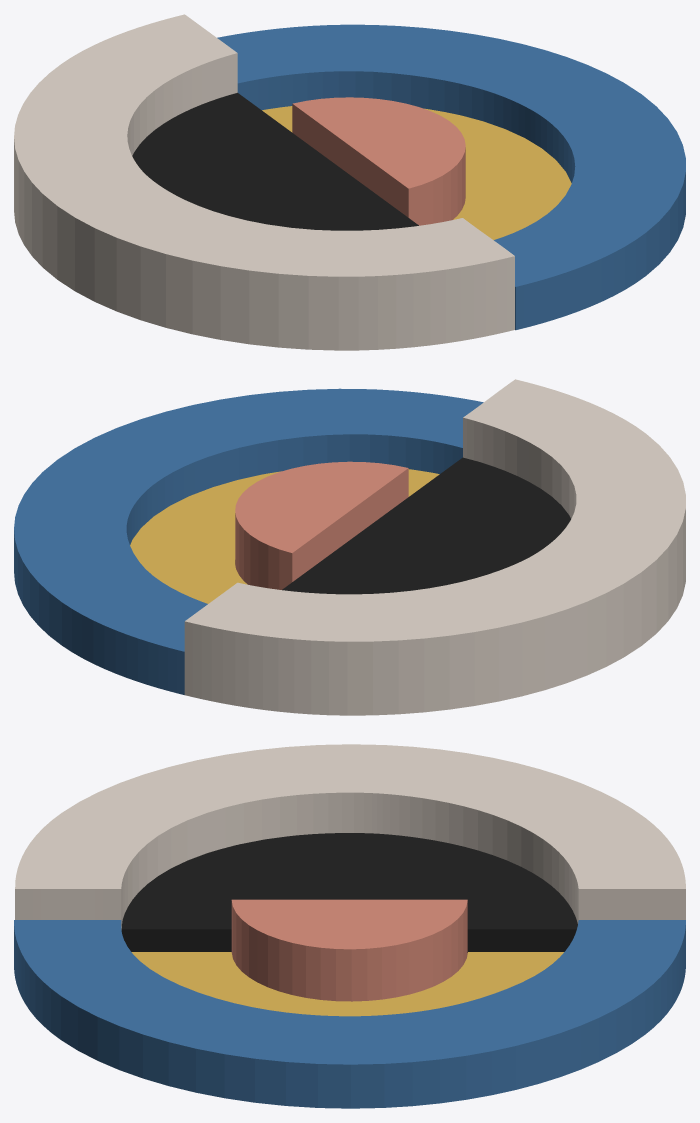
Rendered from SWAN17-HILDA.glb.
The picture shows the model from 3 angles, top to bottom: view 1: azimuth 30°, elevation 25°; view 2: azimuth 150°, elevation 25°; view 3: azimuth 270°, elevation 25°; orthographic projection.
Parts seen in each view (by area): view 1: Curve, Curve.002, Curve.001, Curve.004, Curve.003; view 2: Curve, Curve.002, Curve.001, Curve.004, Curve.003; view 3: Curve.002, Curve, Curve.001, Curve.004, Curve.003.
Part boxes in pixels (x1,y1,x2,y2): Curve: (14,14,514,350); Curve.002: (217,24,685,330); Curve.001: (132,92,418,230); Curve.004: (292,97,465,225); Curve.003: (262,106,571,239); Curve: (184,379,685,715); Curve.002: (14,388,483,694); Curve.001: (282,457,570,594); Curve.004: (235,461,408,589); Curve.003: (130,469,439,603); Curve.002: (14,920,685,1108); Curve: (15,744,685,929); Curve.001: (121,833,577,952); Curve.004: (231,899,467,1001); Curve.003: (131,952,563,1016).
Size of the model in its own units: 0.1674 by 0.0202 by 0.1642.
